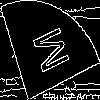M: (25, 24, 70, 80)
